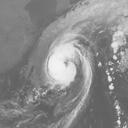cyclone: (44, 44, 82, 86)
